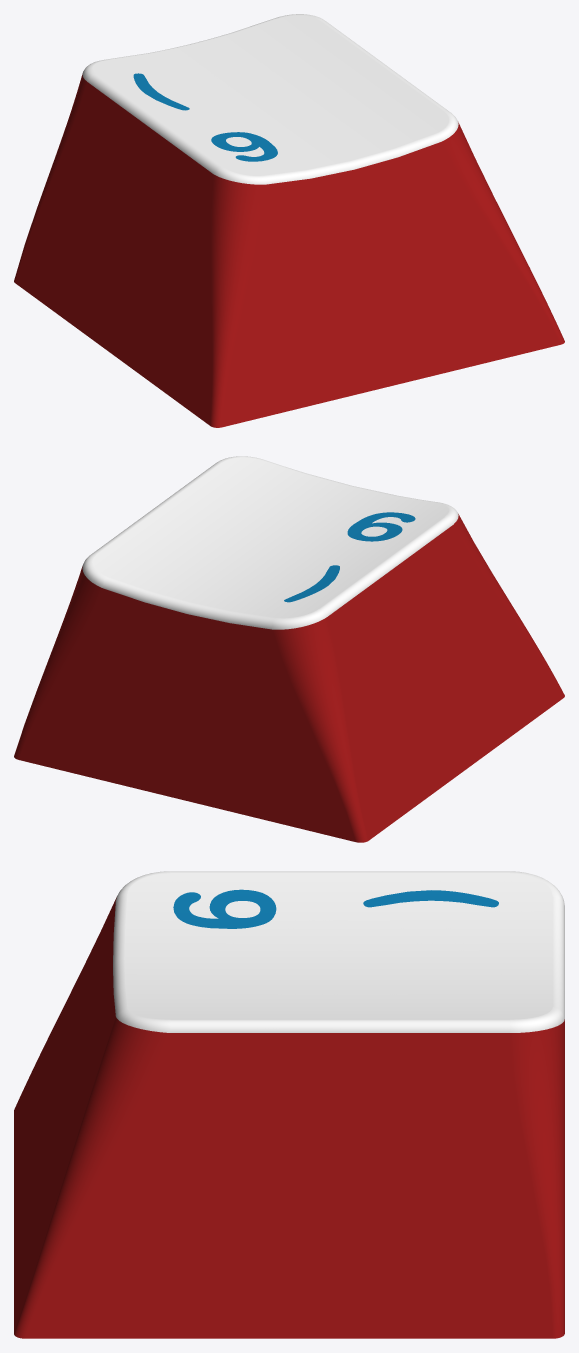
The picture shows the model from 3 angles, top to bottom: view 1: azimuth 30°, elevation 25°; view 2: azimuth 150°, elevation 25°; view 3: azimuth 270°, elevation 25°; orthographic projection. The views are drawn at different scales.
Parts seen in each view (by area): view 1: Body1; view 2: Body1; view 3: Body1.
Boxes of the visible parts, x1=… form: Body1: x1=14, y1=14, x2=564, y2=427; Body1: x1=14, y1=456, x2=564, y2=842; Body1: x1=14, y1=871, x2=564, y2=1338.
Size of the model in its own units: 18 by 9.95 by 18.
